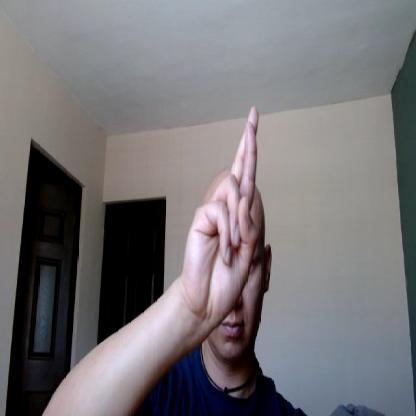R: (185, 104, 263, 322)
